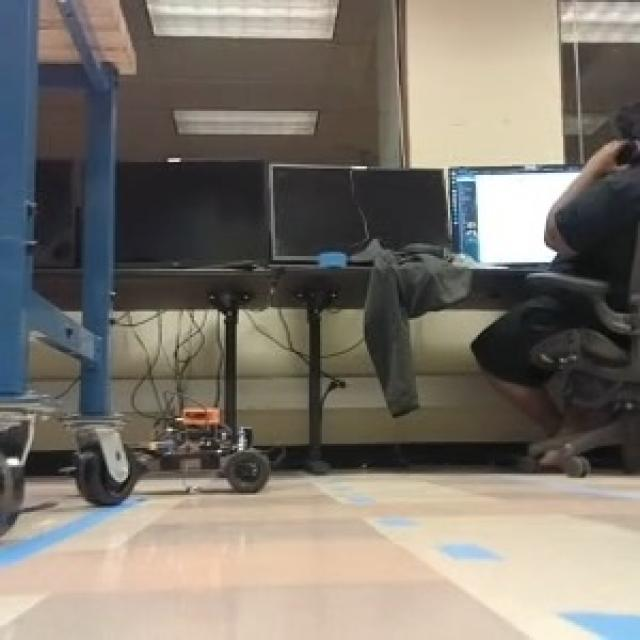obstacle: (126, 408, 270, 492)
